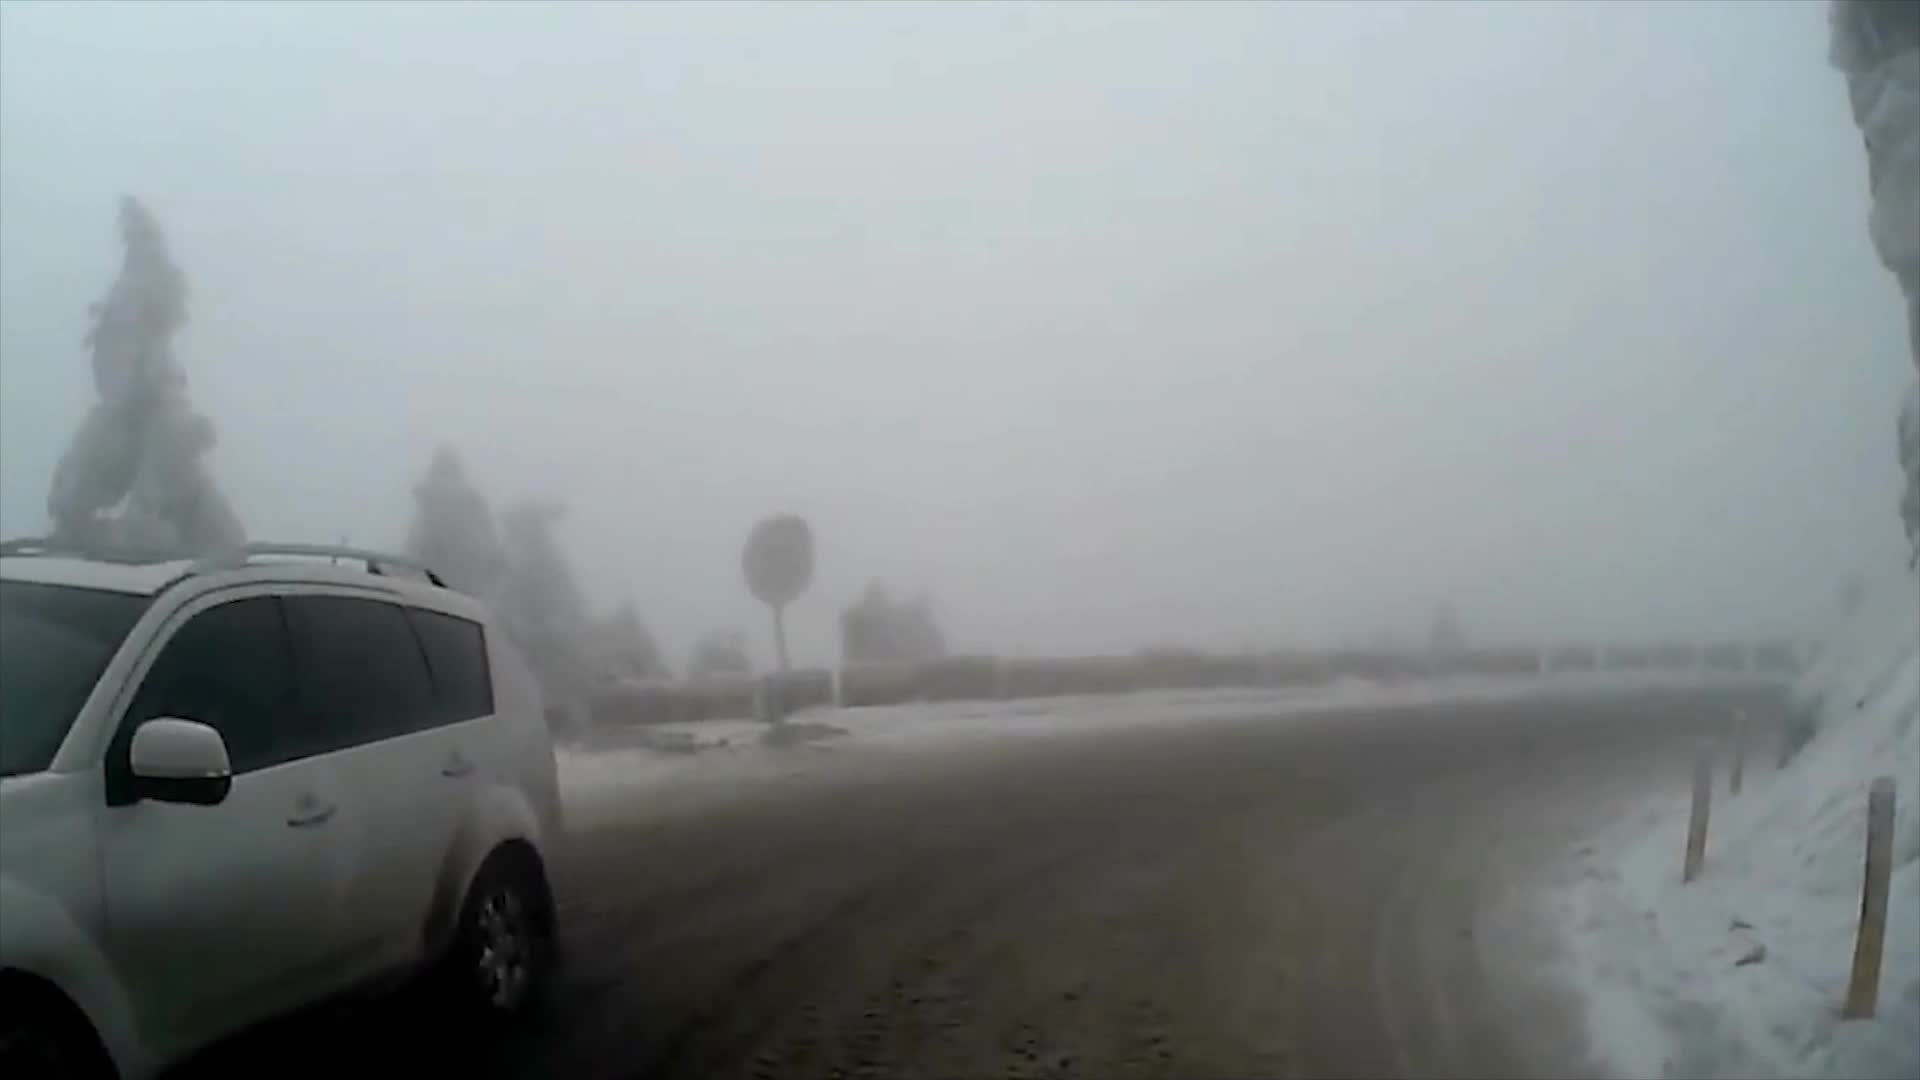vehicle: (0, 535, 564, 1080)
